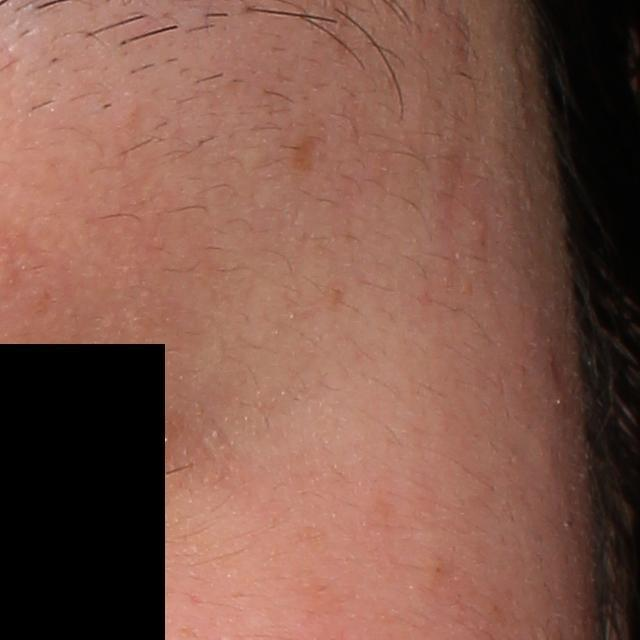melasma: (294, 576, 346, 622), (291, 133, 325, 176)
